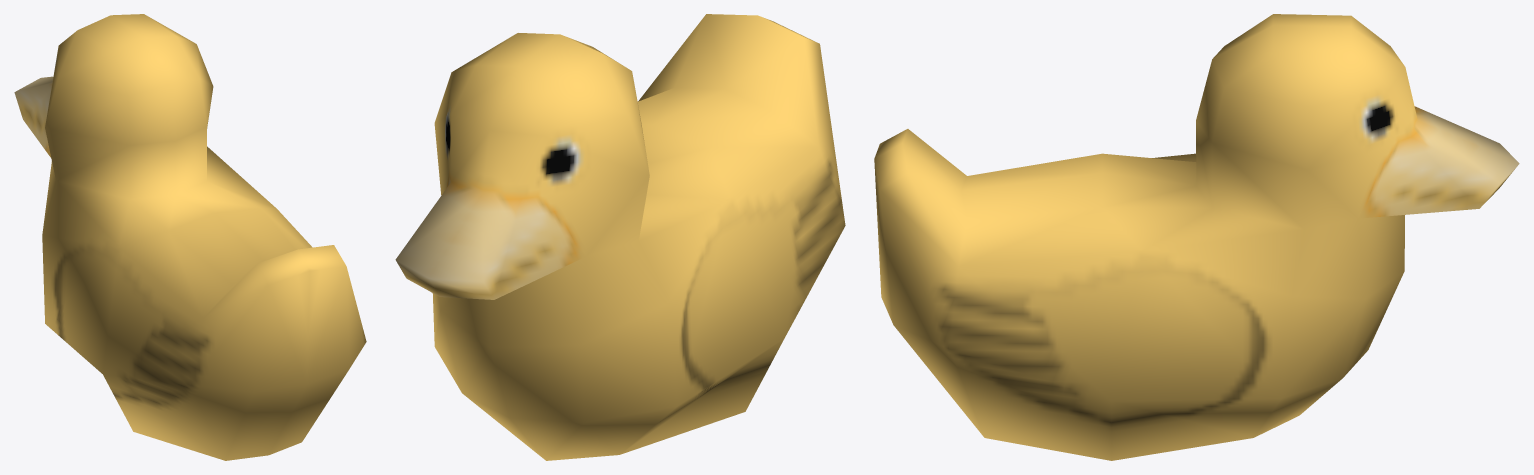
The model's file is GoldRubberducky.fbx.
The picture shows the model from 3 angles, left to right: view 1: azimuth 30°, elevation 25°; view 2: azimuth 150°, elevation 25°; view 3: azimuth 270°, elevation 25°; orthographic projection. The views are drawn at different scales.
Parts seen in each view (by area): view 1: Object; view 2: Object; view 3: Object.
Boxes of the visible parts, x1,y1,x2,y2 form: Object: (14,14,366,460); Object: (395,14,845,460); Object: (874,14,1519,460).
Bounding box in the file's own units: 0.0718 × 0.1034 × 0.155.
